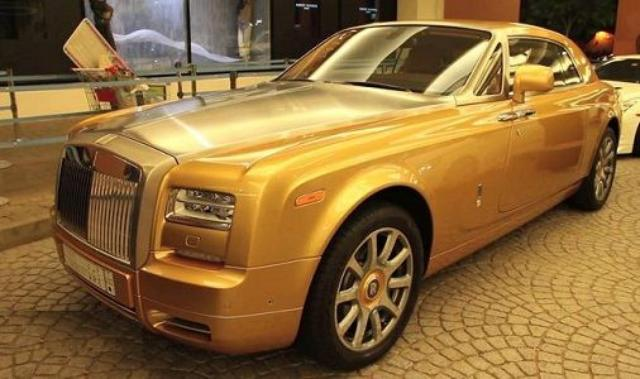rolls-royce: (50, 20, 622, 368)
